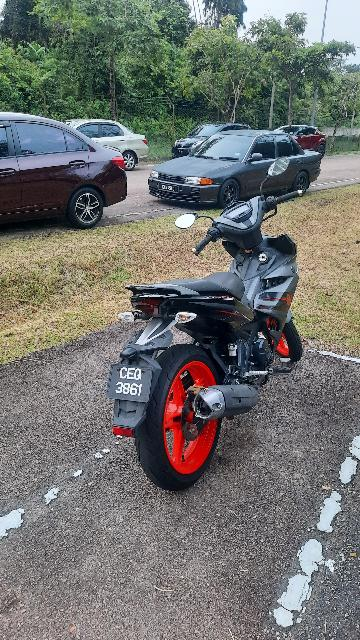License_Plate: (105, 364, 158, 405)
car: (1, 112, 127, 227), (154, 127, 325, 208)
motorcycle: (108, 155, 313, 491)
